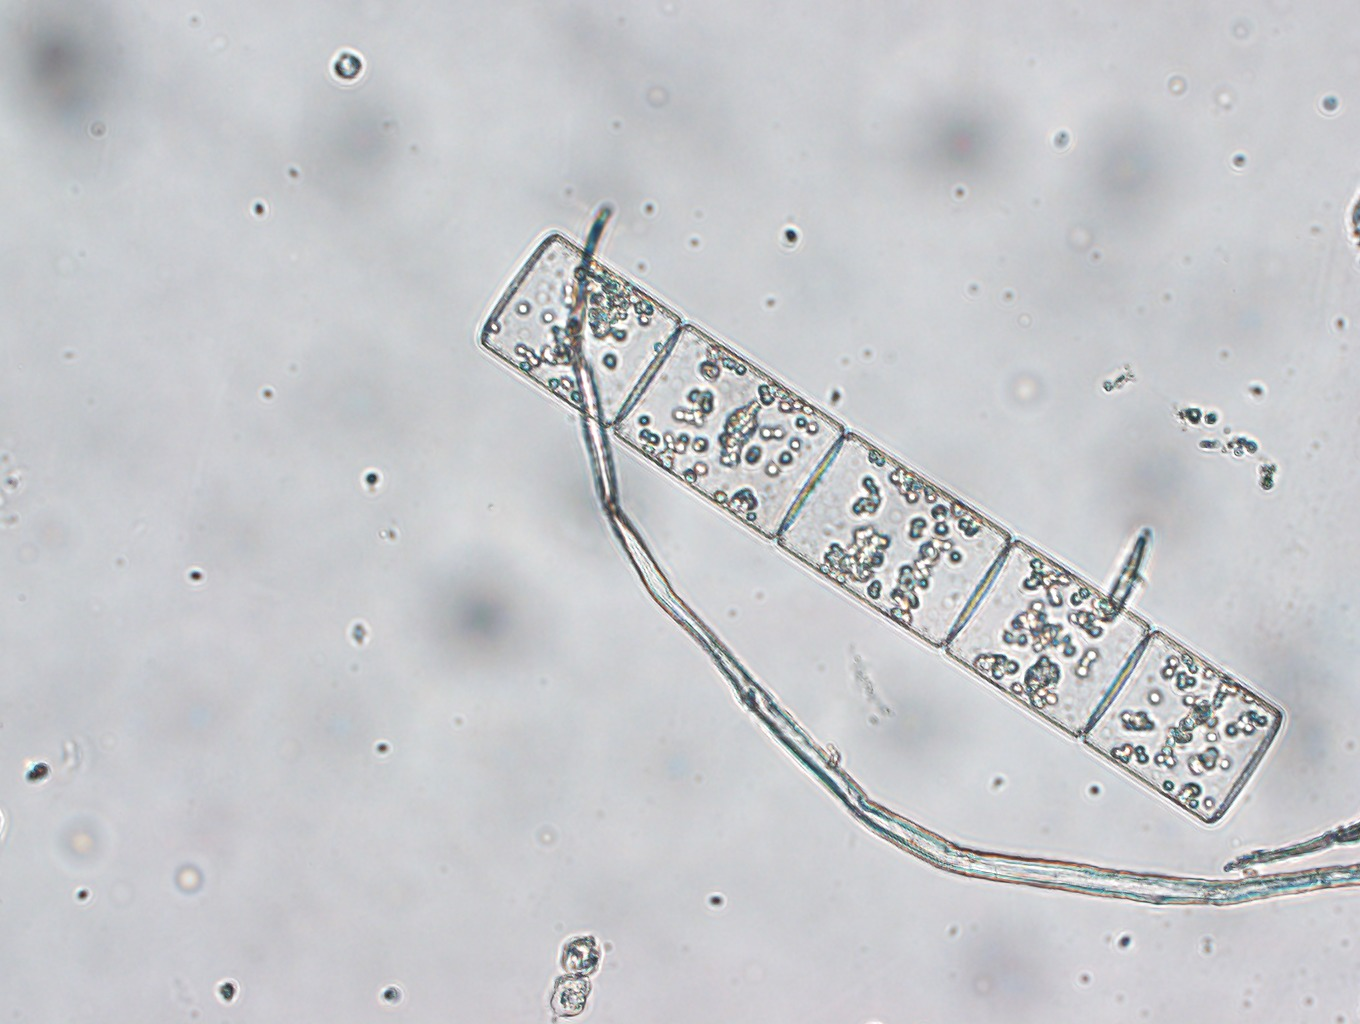guinardia flaccida: (461, 216, 1294, 833)
